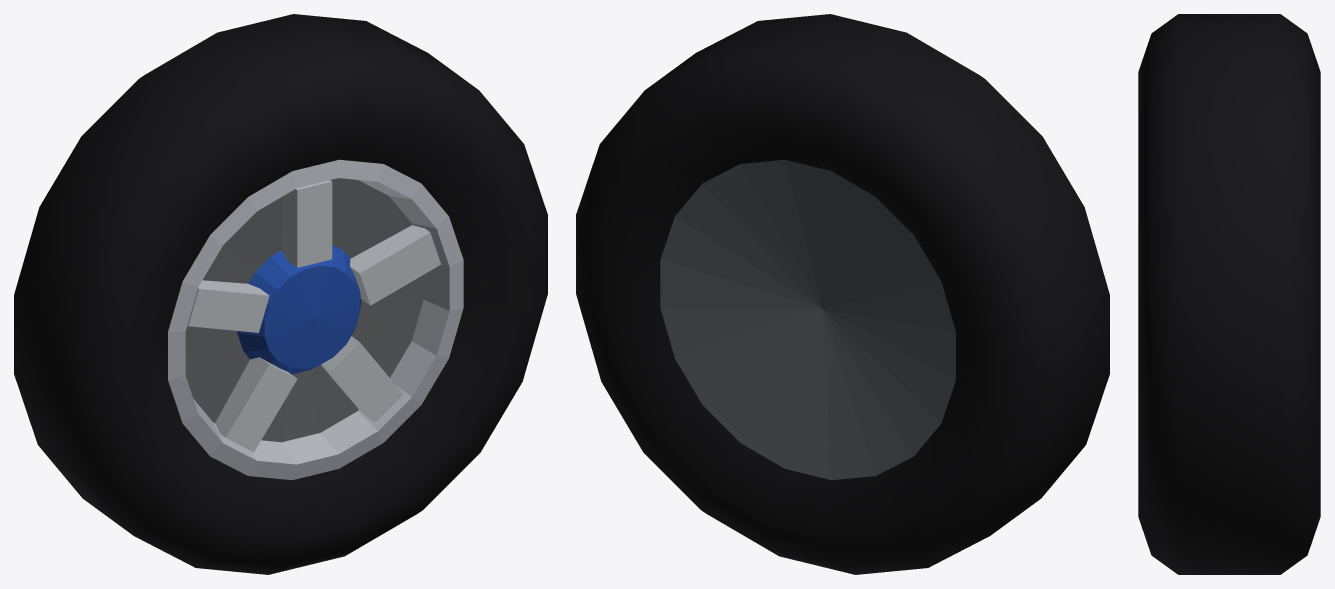
The model's file is learner_wheel.glb.
3 views of the same model, side by side, from view 1: azimuth 30°, elevation 25°; view 2: azimuth 150°, elevation 25°; view 3: azimuth 270°, elevation 25° (orthographic).
Visible parts, largest first — view 1: Wheel; view 2: Wheel; view 3: Wheel.
Boxes of the visible parts, x1,y1,x2,y2 form: Wheel: (14,14,547,574); Wheel: (576,14,1109,574); Wheel: (1138,14,1320,574).
Bounding box in the file's own units: 0.76 × 0.76 × 0.25.
